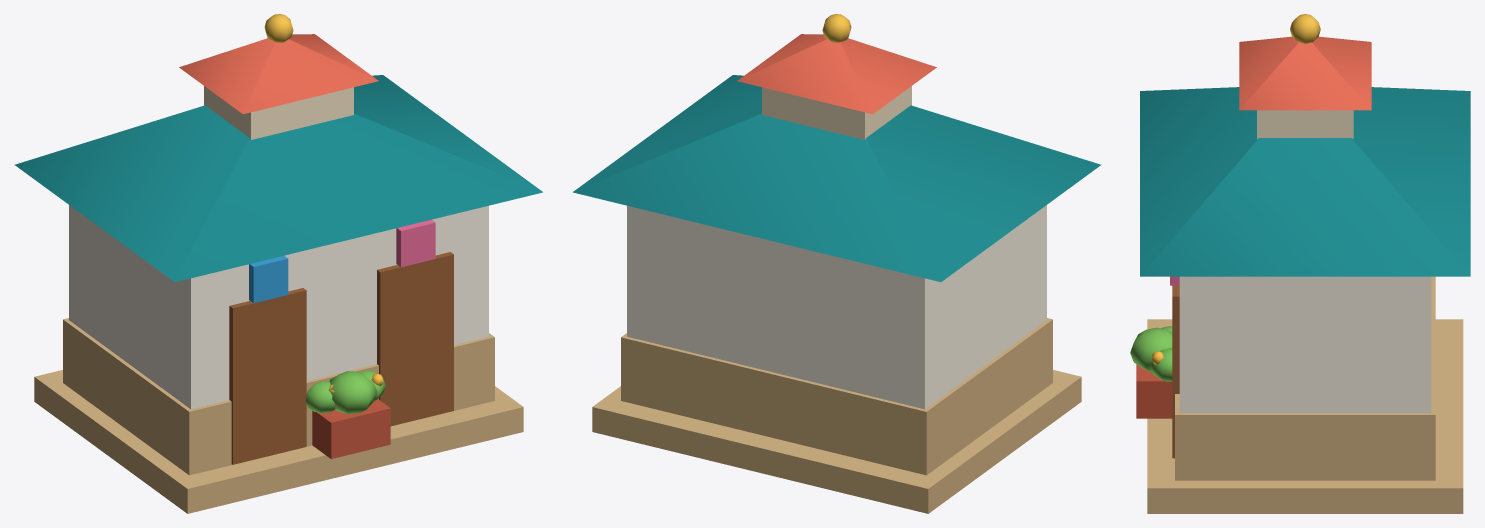
File: restroom.glb
3 views of the same model, side by side, from view 1: azimuth 30°, elevation 25°; view 2: azimuth 150°, elevation 25°; view 3: azimuth 270°, elevation 25° (orthographic). The views are drawn at different scales.
Parts seen in each view (by area): view 1: Mesh_teal, Mesh_warmWhite, Mesh_sandStone, Mesh_wood, Mesh_coral, Mesh_cream, Mesh_terracotta, Mesh_leafLight, Mesh_skyBlue, Mesh_flamingo, Mesh_gold; view 2: Mesh_teal, Mesh_warmWhite, Mesh_sandStone, Mesh_coral, Mesh_cream, Mesh_gold; view 3: Mesh_teal, Mesh_sandStone, Mesh_warmWhite, Mesh_coral, Mesh_cream, Mesh_leafLight, Mesh_terracotta, Mesh_wood, Mesh_gold.
Boxes of the visible parts, x1,y1,x2,y2 form: Mesh_teal: (14,75,542,282); Mesh_warmWhite: (69,205,488,409); Mesh_sandStone: (34,318,523,513); Mesh_wood: (229,252,453,464); Mesh_coral: (179,34,378,114); Mesh_cream: (204,86,353,139); Mesh_terracotta: (312,399,390,458); Mesh_leafLight: (305,370,385,414); Mesh_skyBlue: (249,255,288,303); Mesh_flamingo: (396,219,435,267); Mesh_gold: (264,14,293,42); Mesh_teal: (573,75,1101,282); Mesh_warmWhite: (627,205,1046,409); Mesh_sandStone: (592,318,1081,513); Mesh_coral: (737,34,936,114); Mesh_cream: (762,86,911,139); Mesh_gold: (822,14,851,42); Mesh_teal: (1140,87,1470,276); Mesh_sandStone: (1147,276,1463,513); Mesh_warmWhite: (1179,276,1431,413); Mesh_coral: (1239,36,1371,110); Mesh_cream: (1257,110,1353,138); Mesh_leafLight: (1130,326,1172,381); Mesh_terracotta: (1136,364,1172,418); Mesh_wood: (1172,285,1179,458); Mesh_gold: (1290,14,1320,43).
Bounding box in the file's own units: 3.4 × 3.54 × 2.64.
